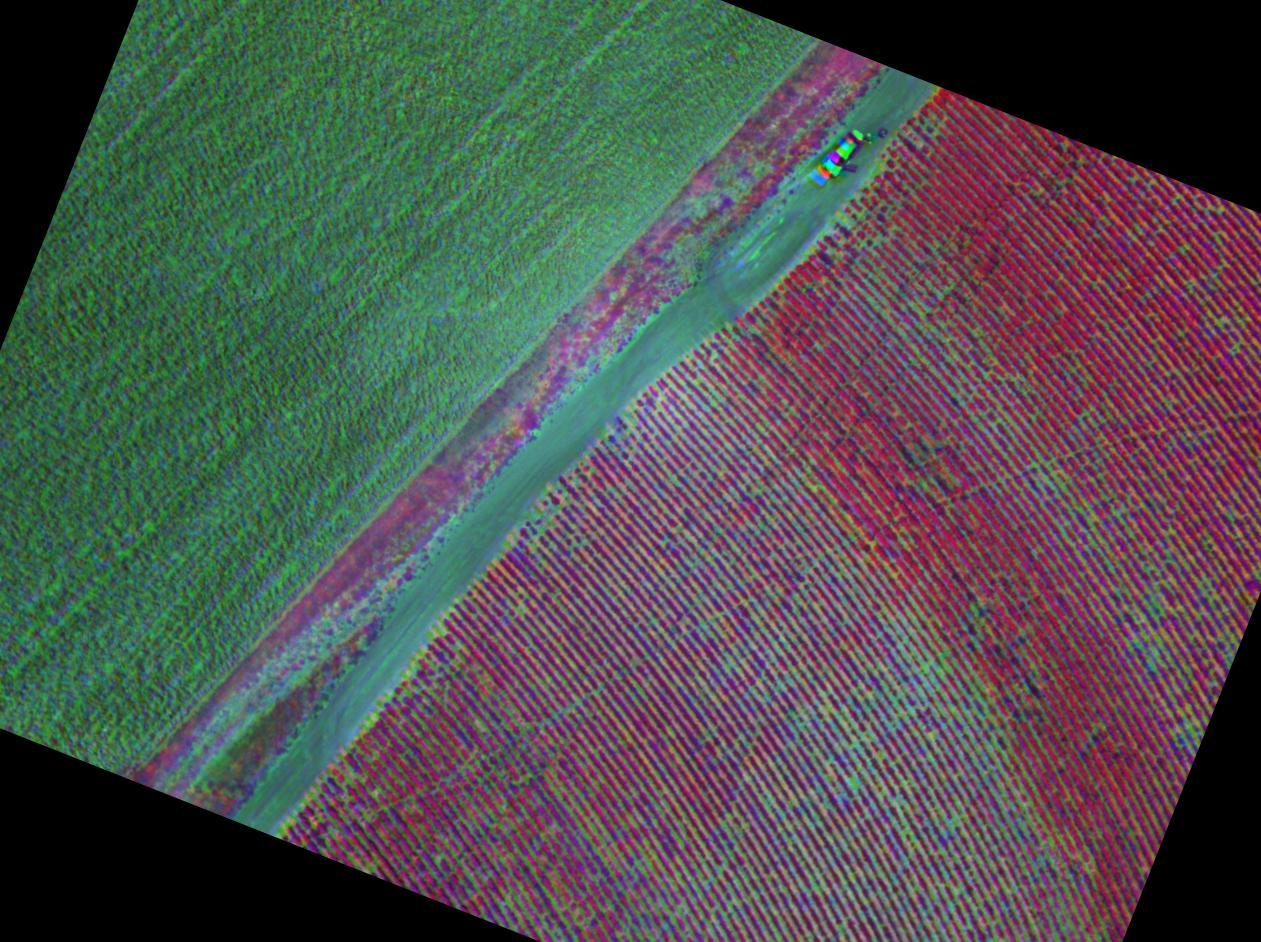dc: (758, 682, 762, 686), (845, 516, 848, 519), (829, 705, 832, 708), (865, 555, 867, 559), (750, 598, 753, 600)
